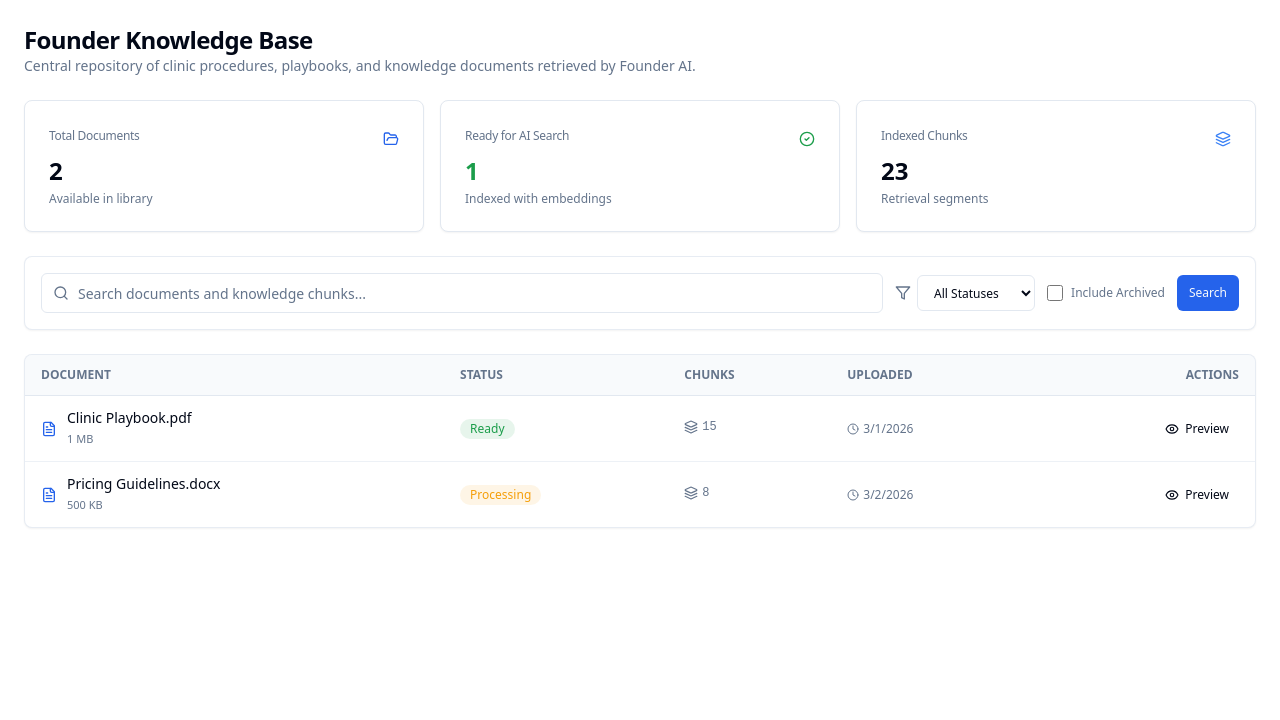
Test case: KnowledgeBasePage › opens preview modal when Preview button is clicked
Step 1. Click the button with test id "preview-button-doc-1" → (1197, 428), box [1155,412,1239,444]
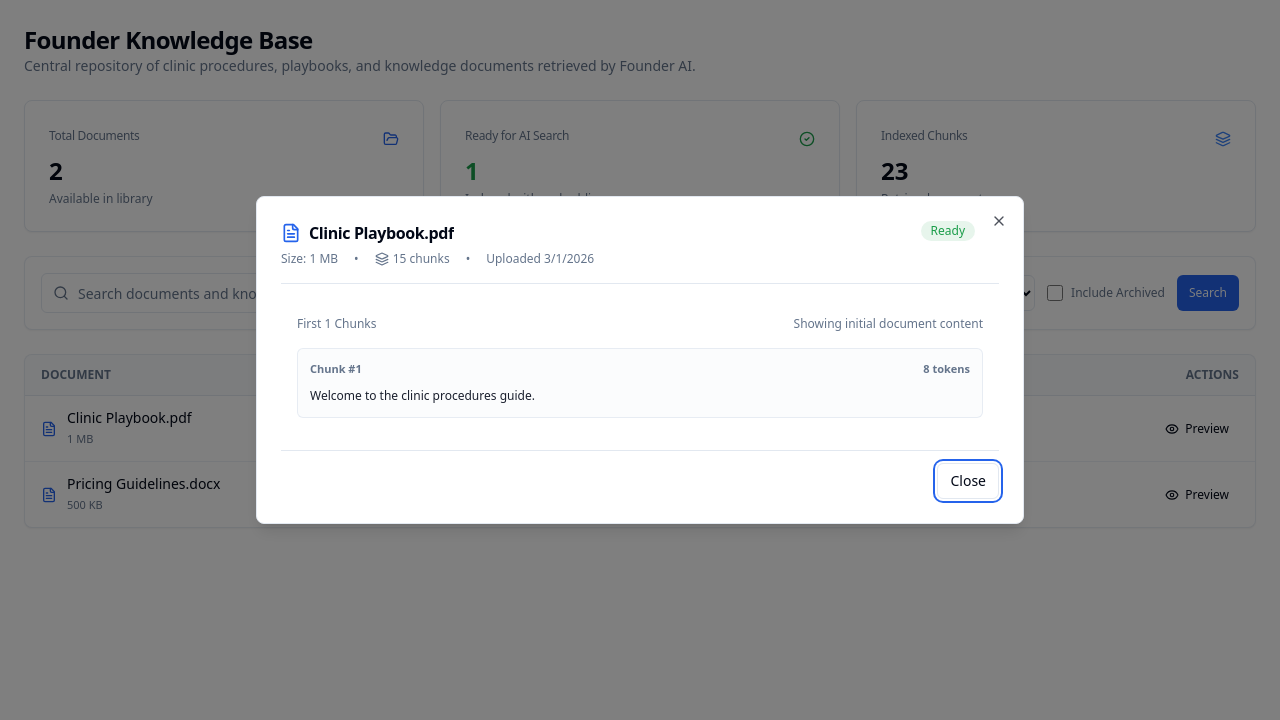
Check: the dialog with test id "knowledge-preview-modal" is shown, box [256,196,1024,524]
